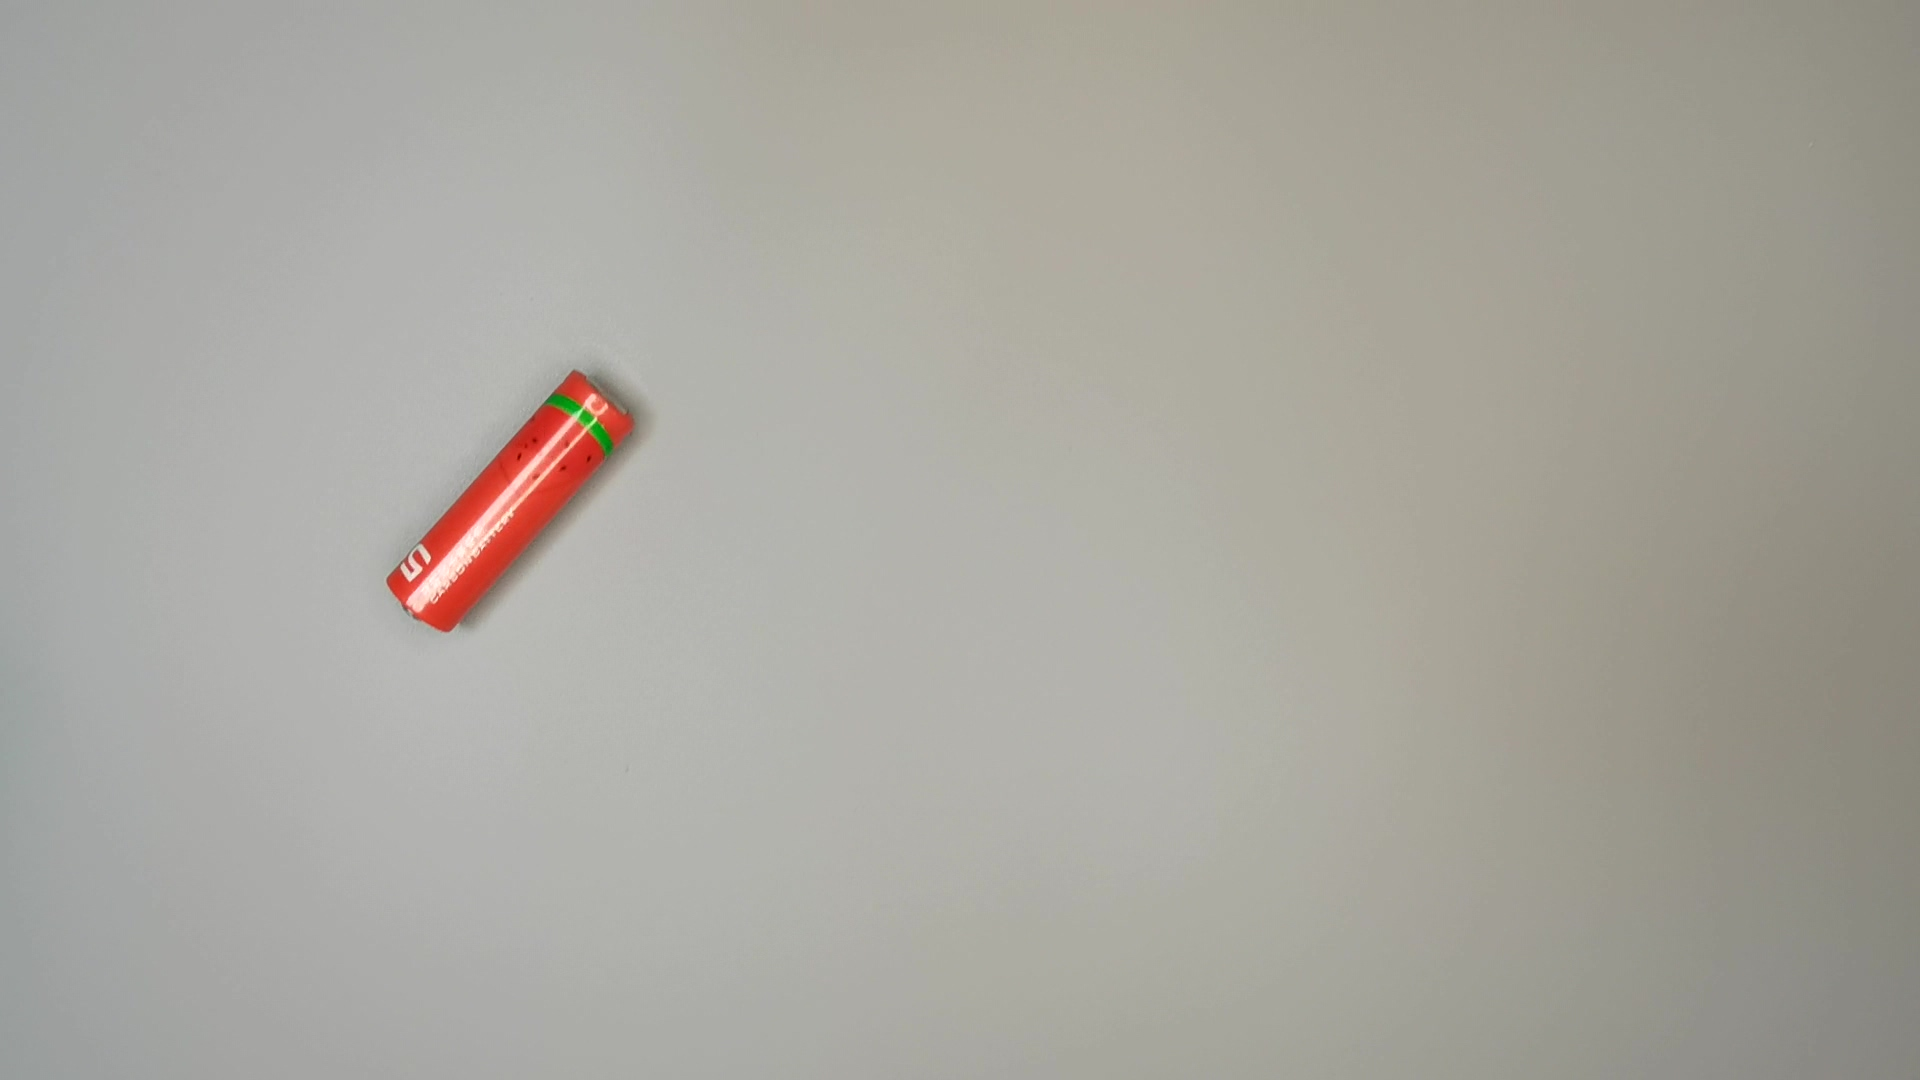battery: (386, 361, 645, 640)
